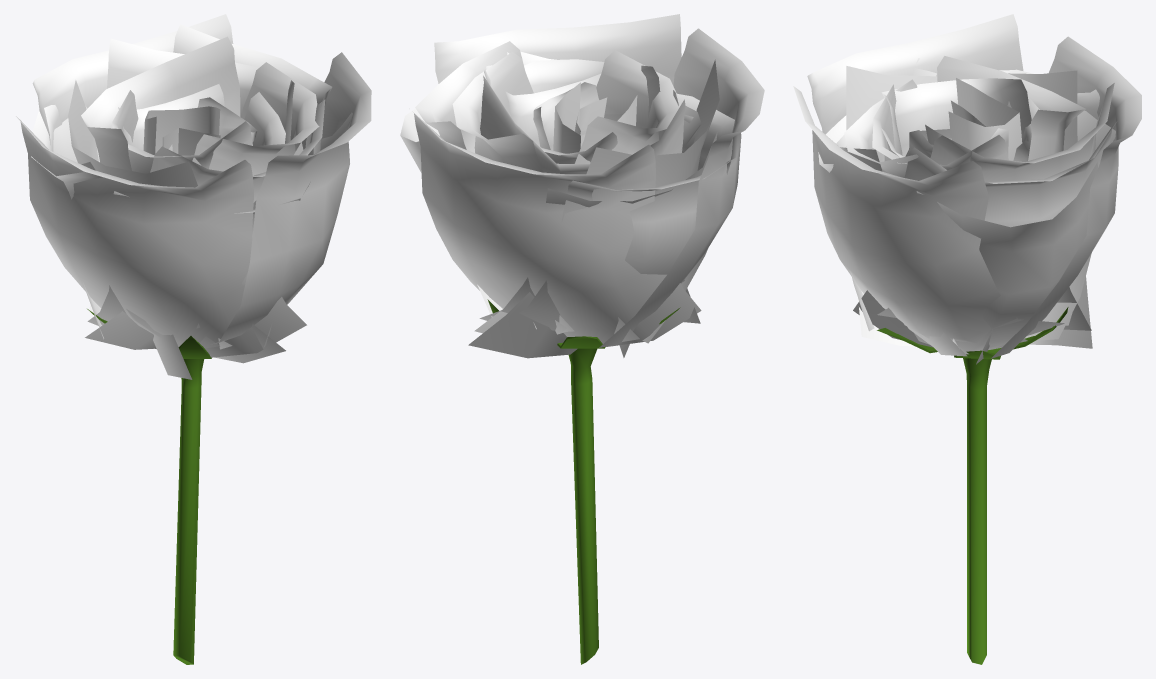
The model's file is Rose_2.fbx.
3 views of the same model, side by side, from view 1: azimuth 30°, elevation 25°; view 2: azimuth 150°, elevation 25°; view 3: azimuth 270°, elevation 25° (orthographic).
Visible parts, largest first — view 1: Plane.003; view 2: Plane.003; view 3: Plane.003.
Part boxes in pixels (x1,y1,x2,y2): Plane.003: [16, 14, 371, 664]; Plane.003: [400, 14, 764, 664]; Plane.003: [793, 14, 1141, 664].
Bounding box in the file's own units: 85.59 × 152 × 81.75.
